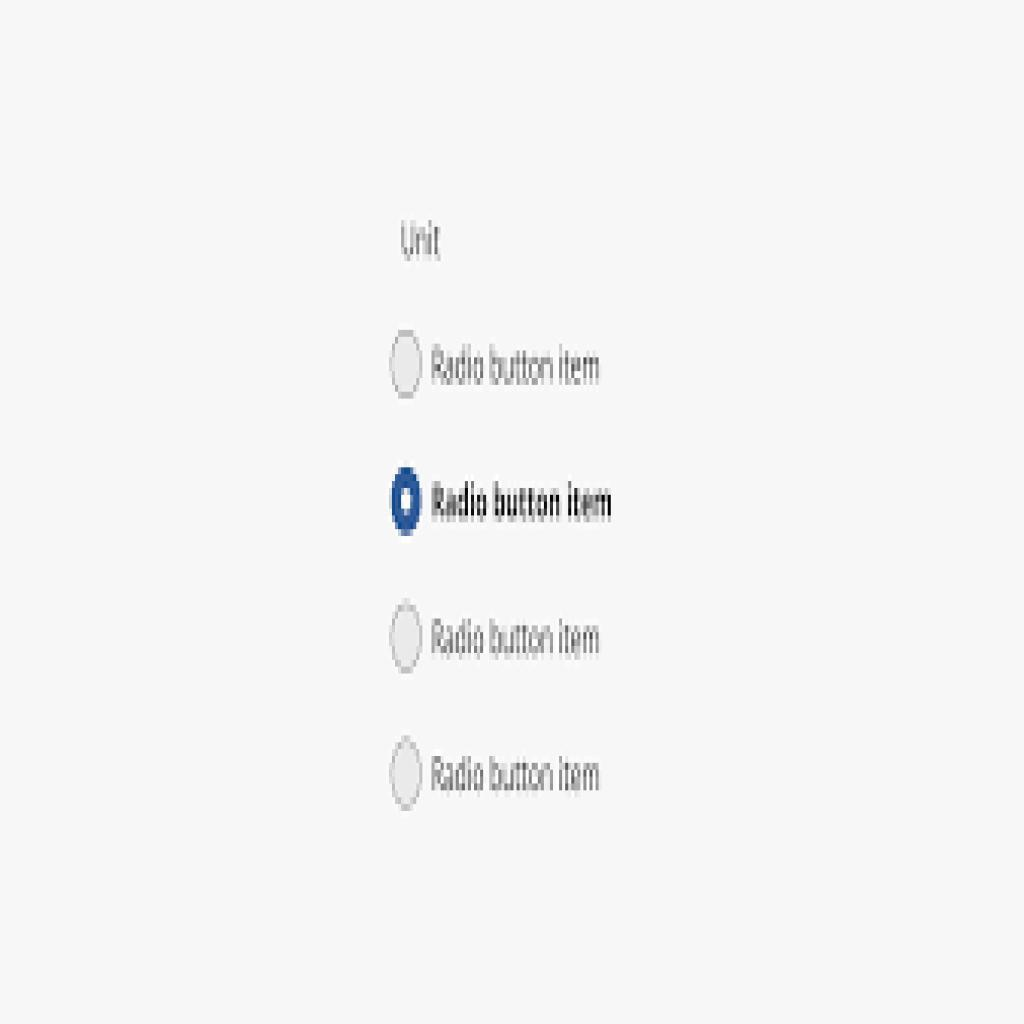radio: (385, 733, 426, 811), (388, 597, 425, 674), (388, 461, 425, 536), (389, 327, 424, 401)
